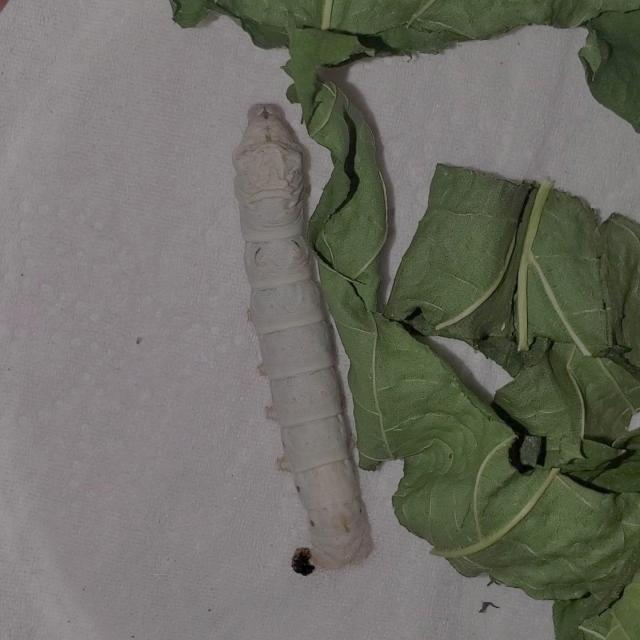Healthy: (205, 83, 424, 611)
